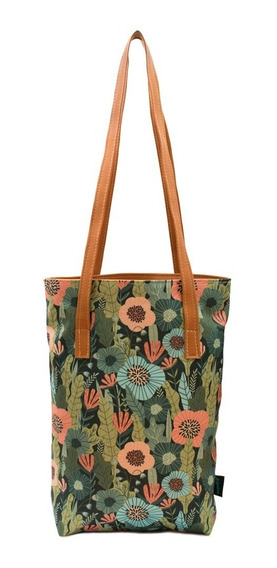cartera: (43, 25, 234, 539)
